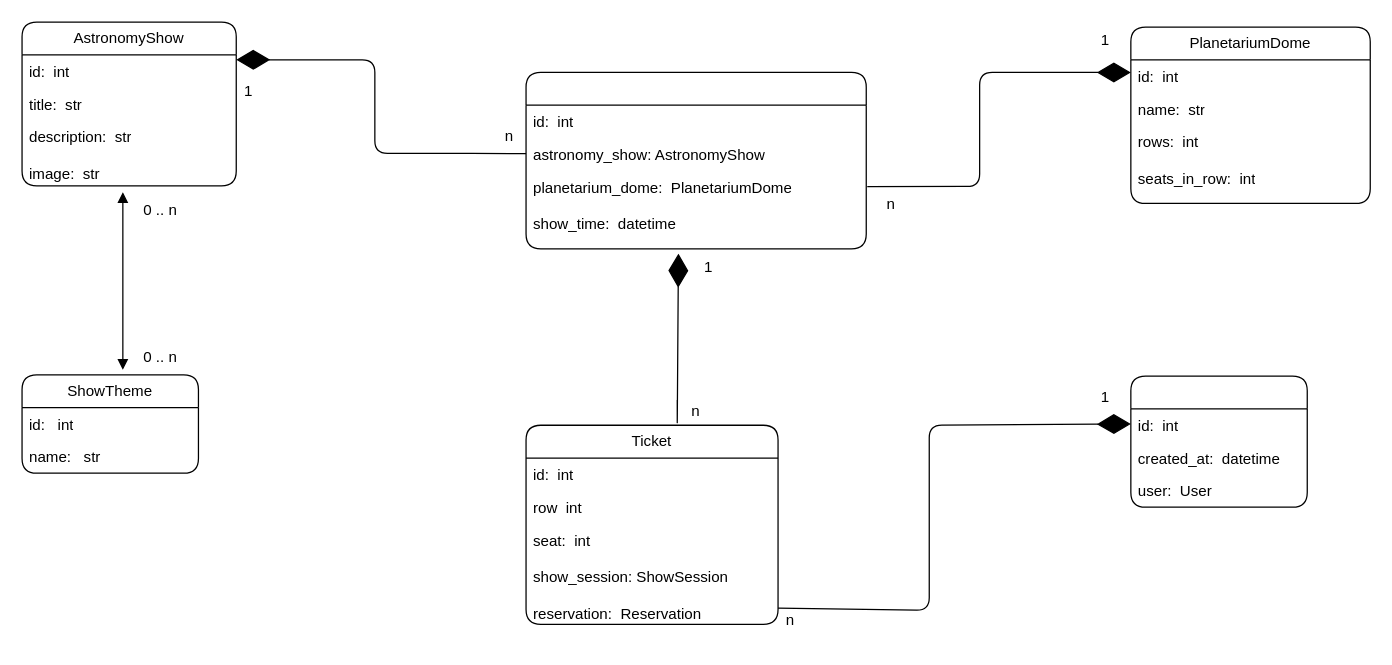
Some shapes in this 1392 by 665 pixel diagram are drawn without their labels. The box of each missing label's shape, as (x1, y1, x2, y2) in pixels:
Reservation: (1130, 375, 1307, 507)
ShowSession: (525, 71, 866, 249)
